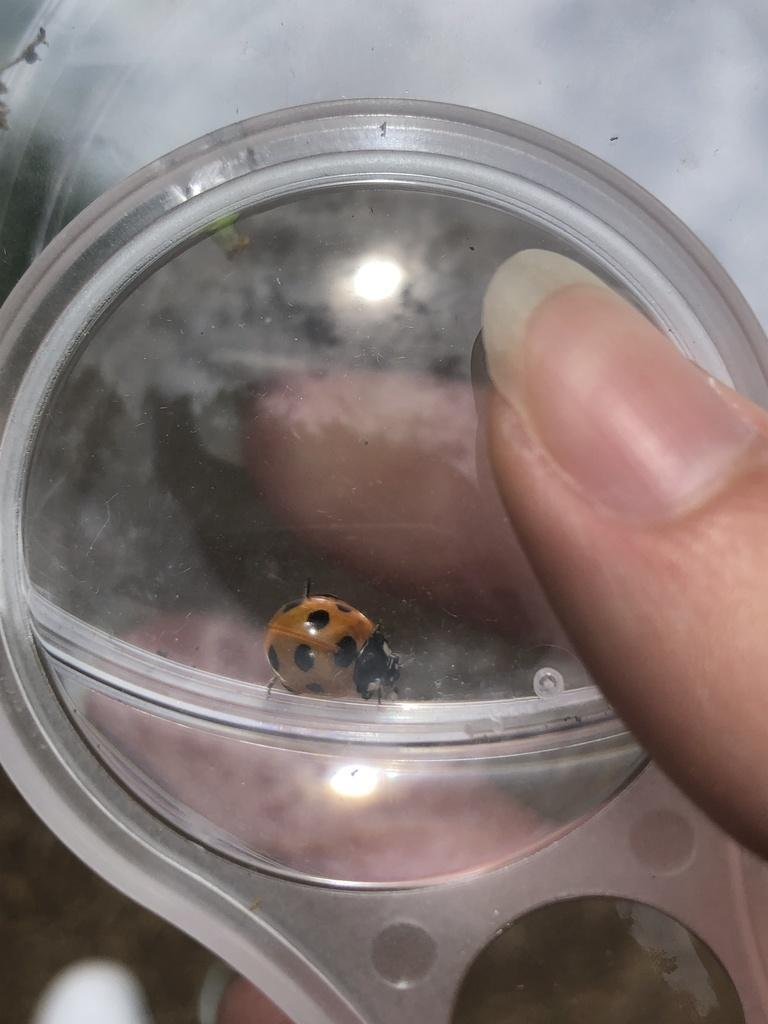ladybug: (262, 575, 406, 707)
